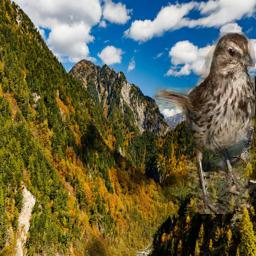Sparrow: (152, 32, 255, 214), (209, 123, 254, 170)
